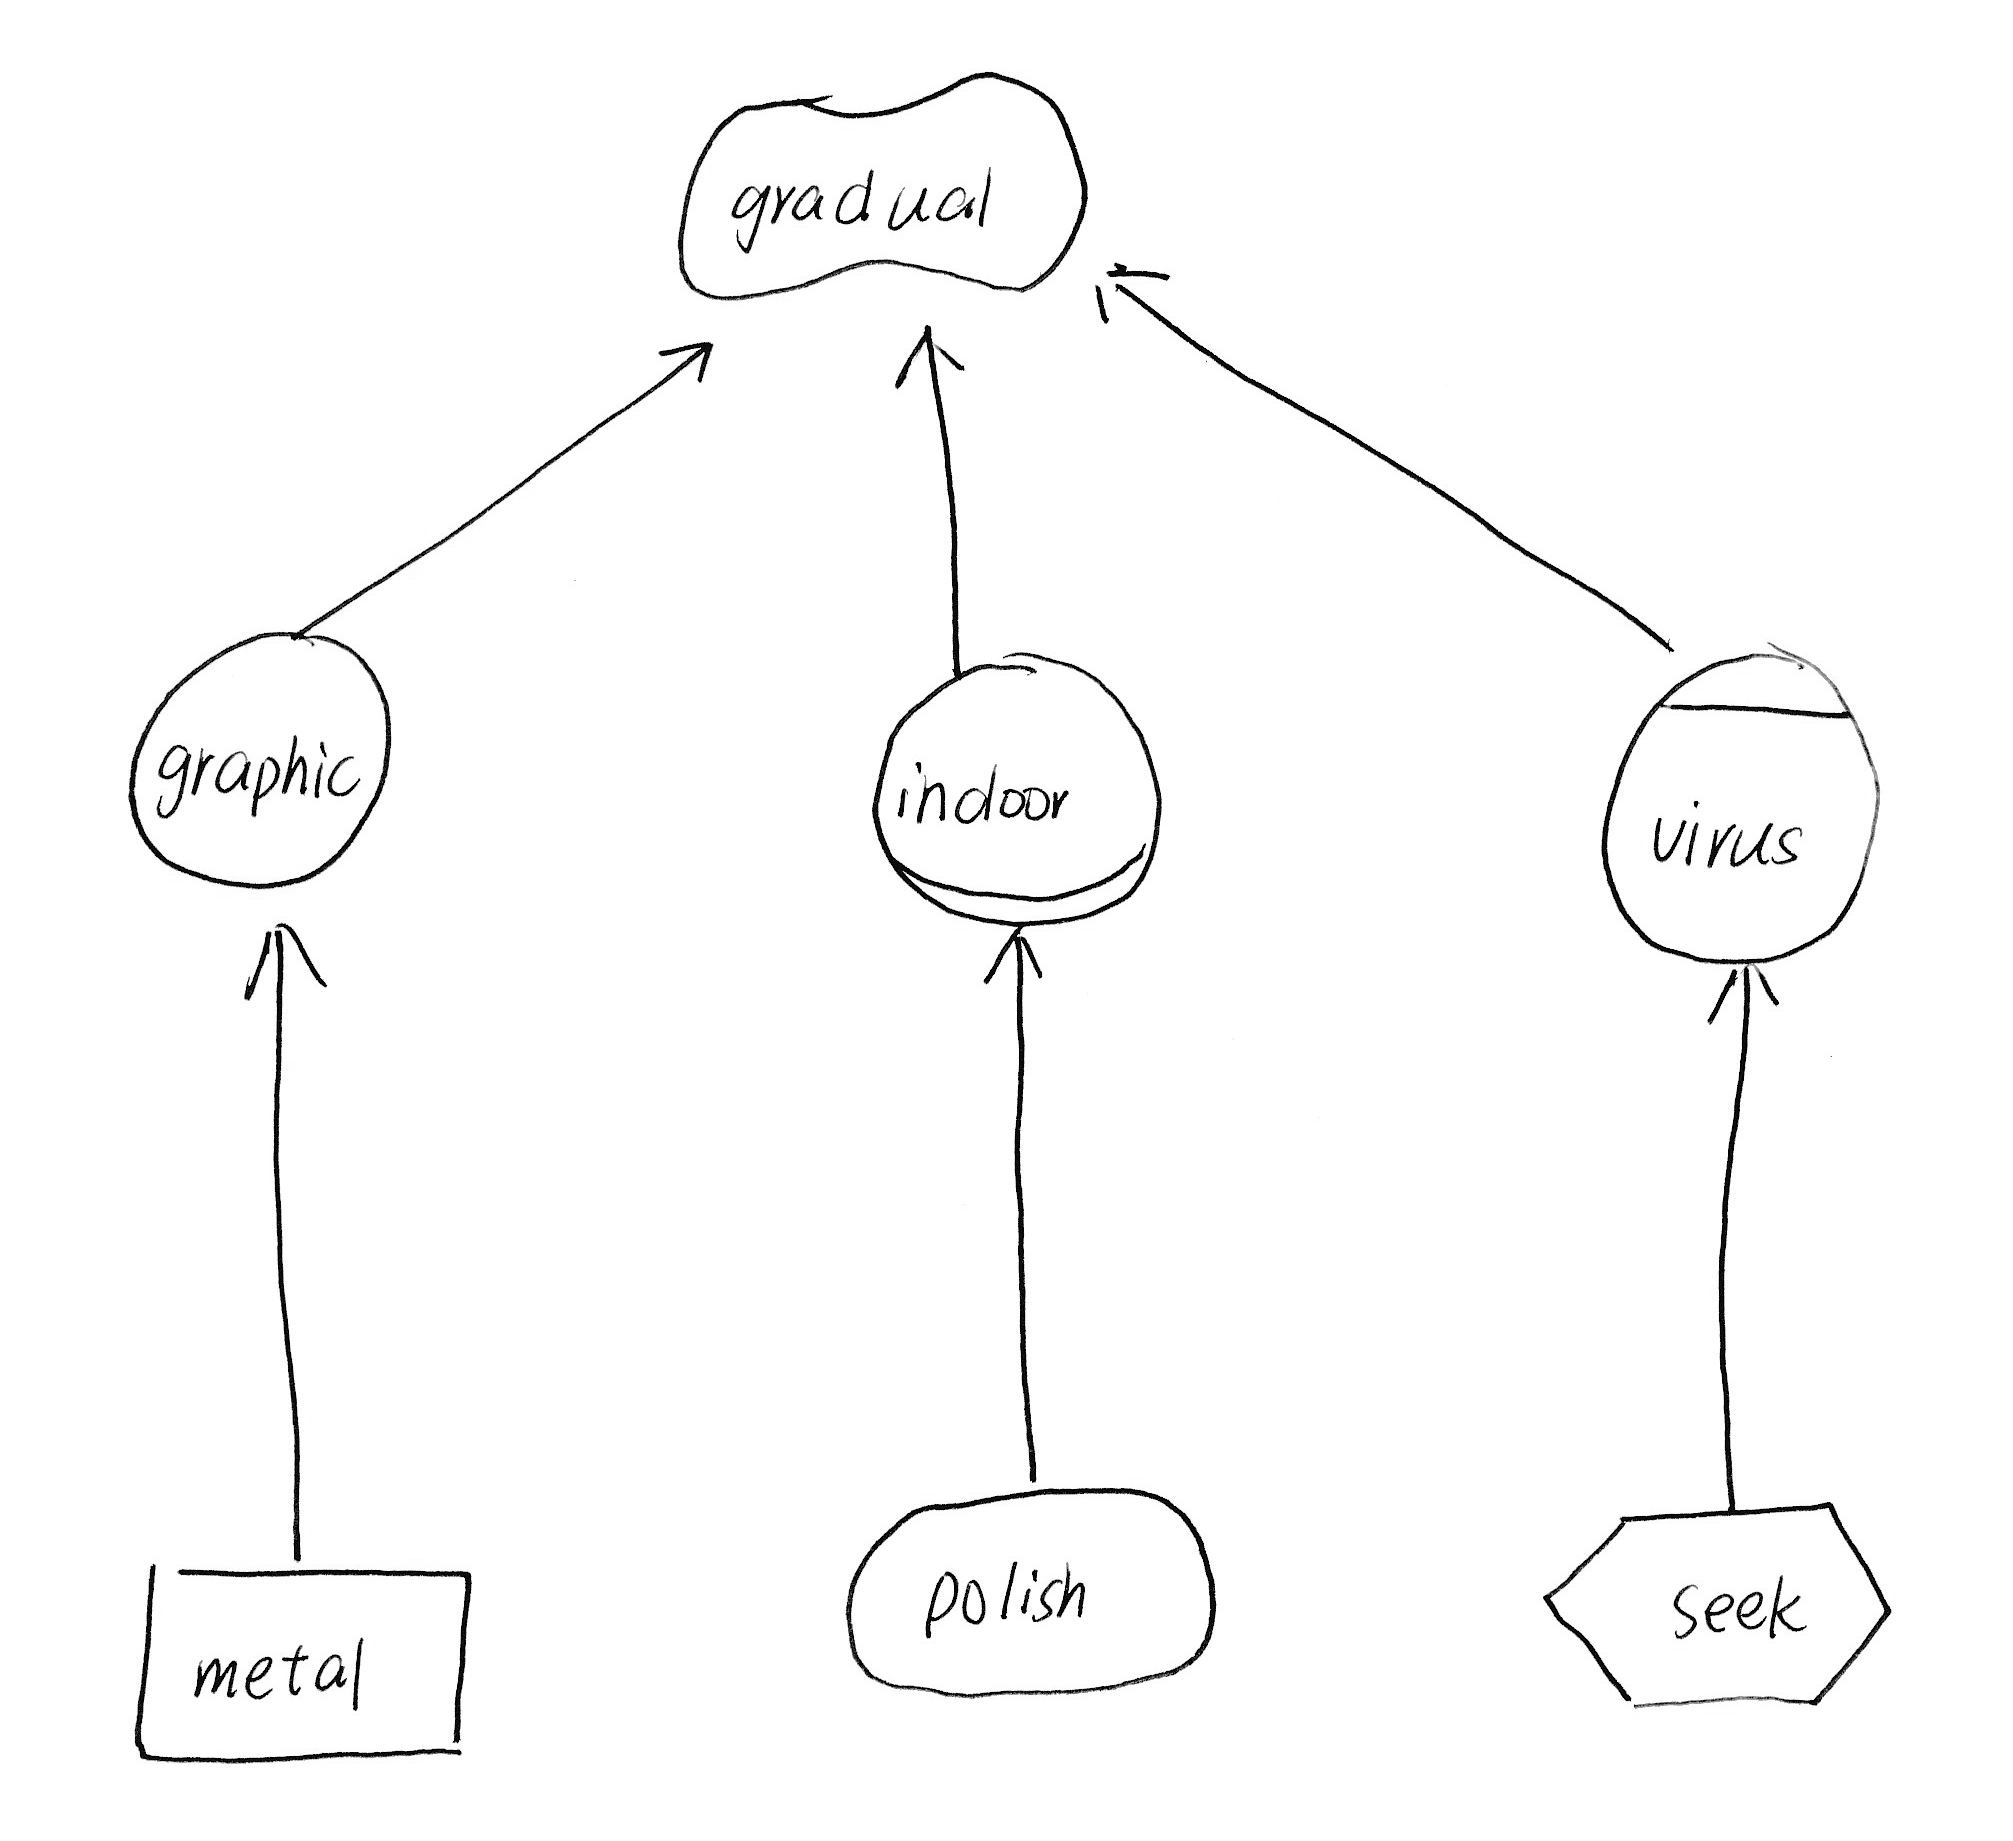actor: (107, 614, 410, 912)
agent: (1582, 638, 1901, 978)
arrow: (226, 906, 333, 1006), (878, 307, 977, 402), (1699, 954, 1794, 1038), (1085, 254, 1184, 331), (975, 915, 1056, 991), (652, 324, 724, 396)
goal: (829, 1469, 1234, 1711)
quality: (654, 47, 1106, 321)
resource: (116, 1541, 496, 1780)
role: (852, 635, 1184, 940)
task: (1519, 1483, 1910, 1722)
